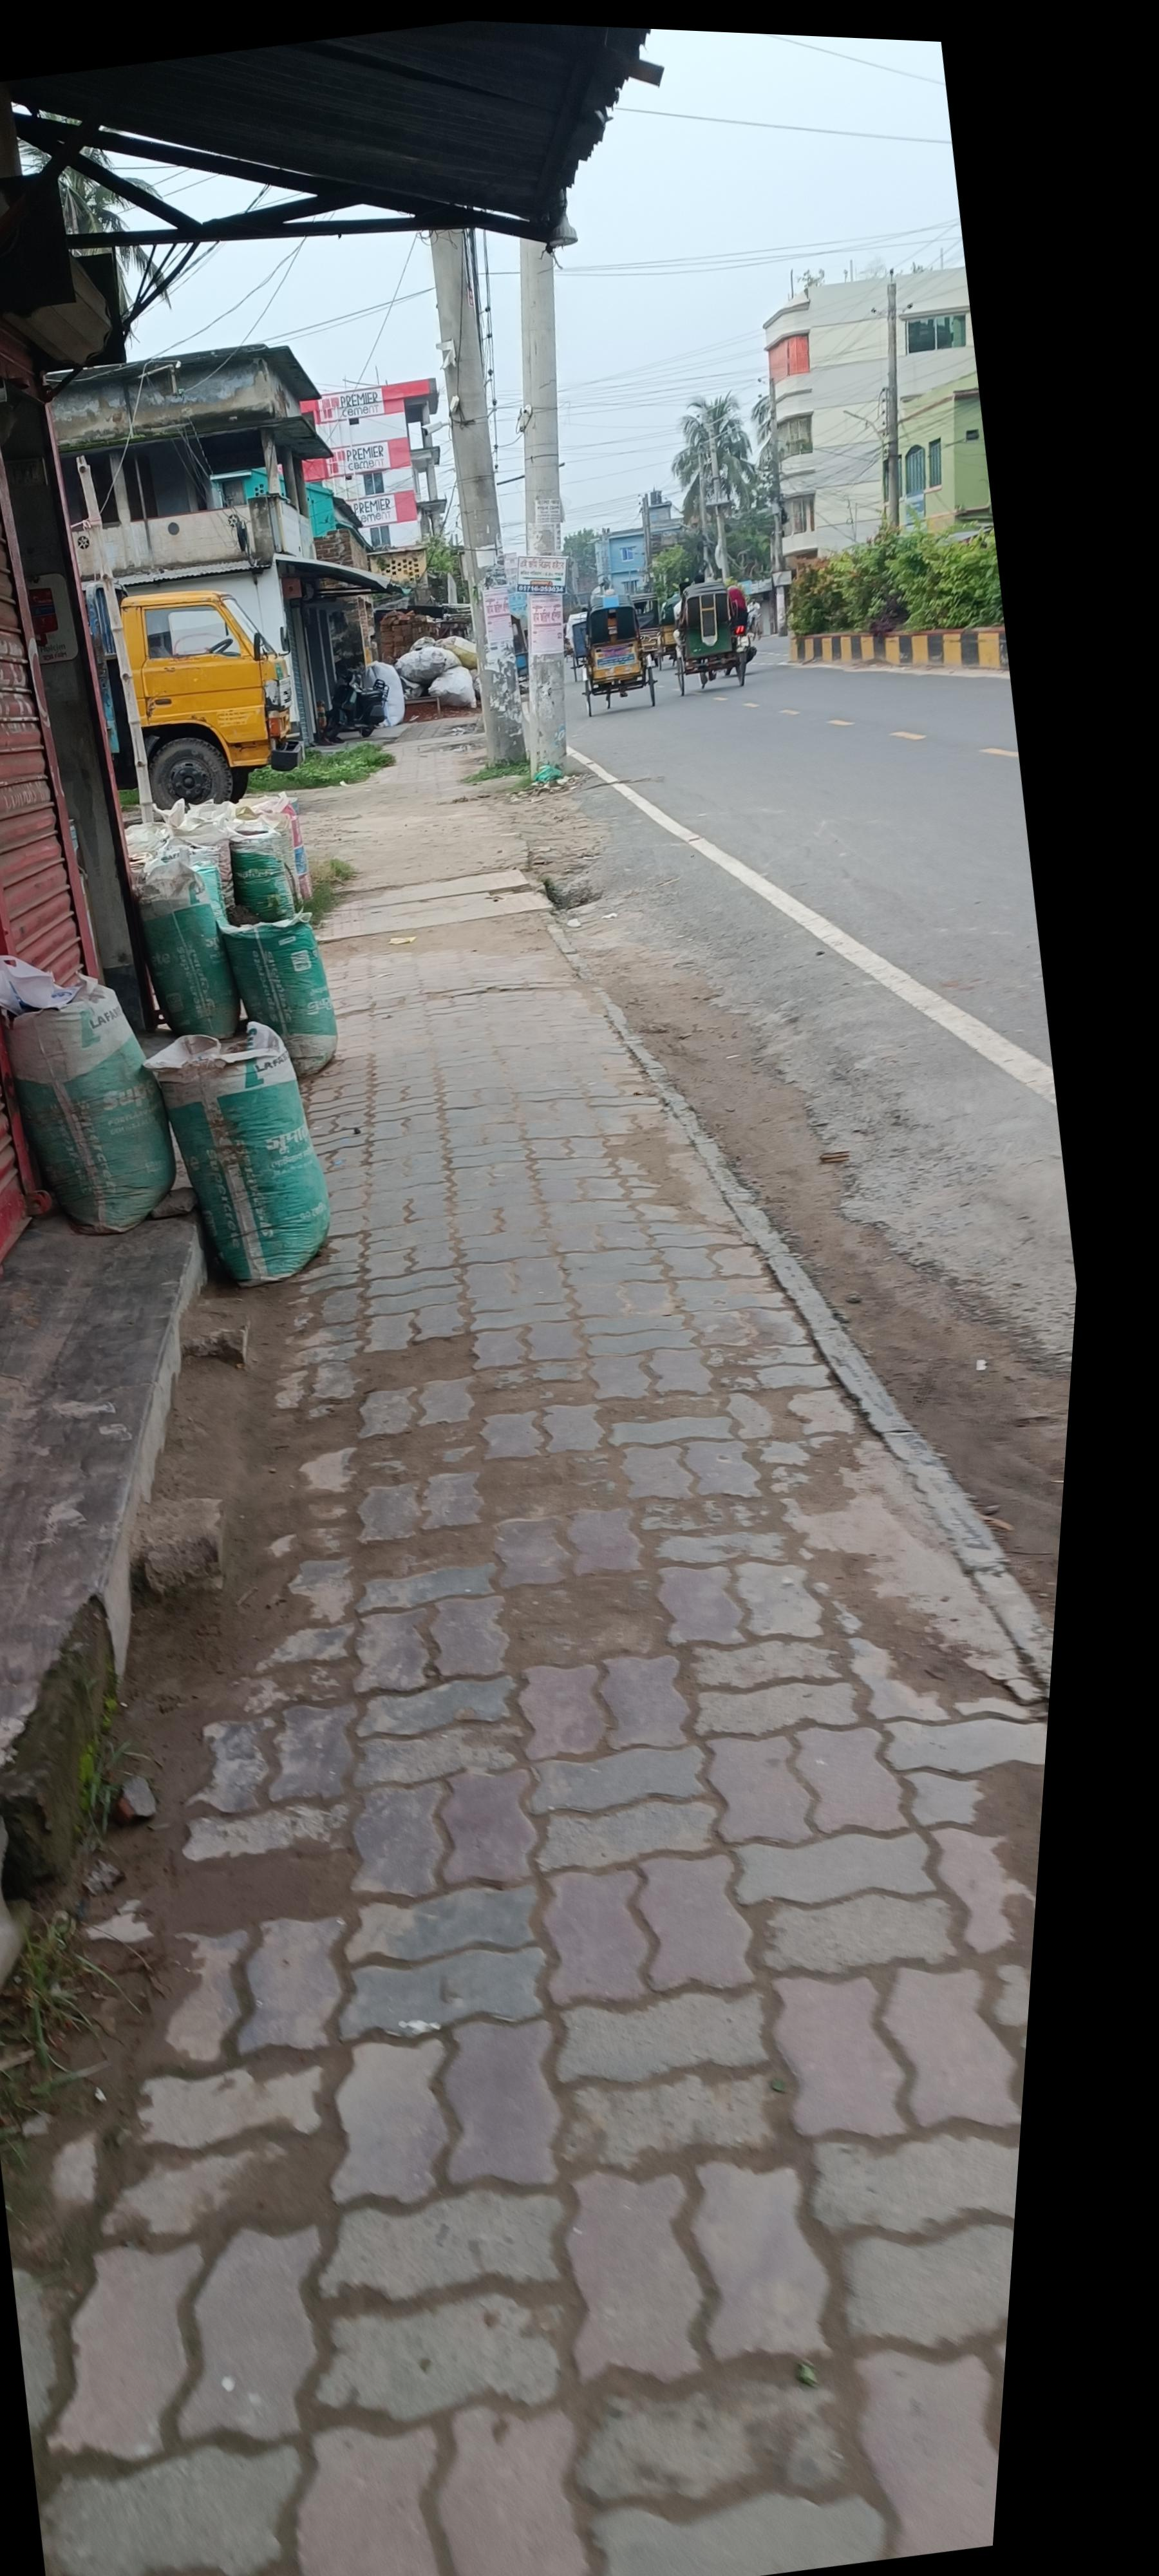Dog: (0, 876, 197, 1431)
Pothole: (0, 710, 1108, 2576)
